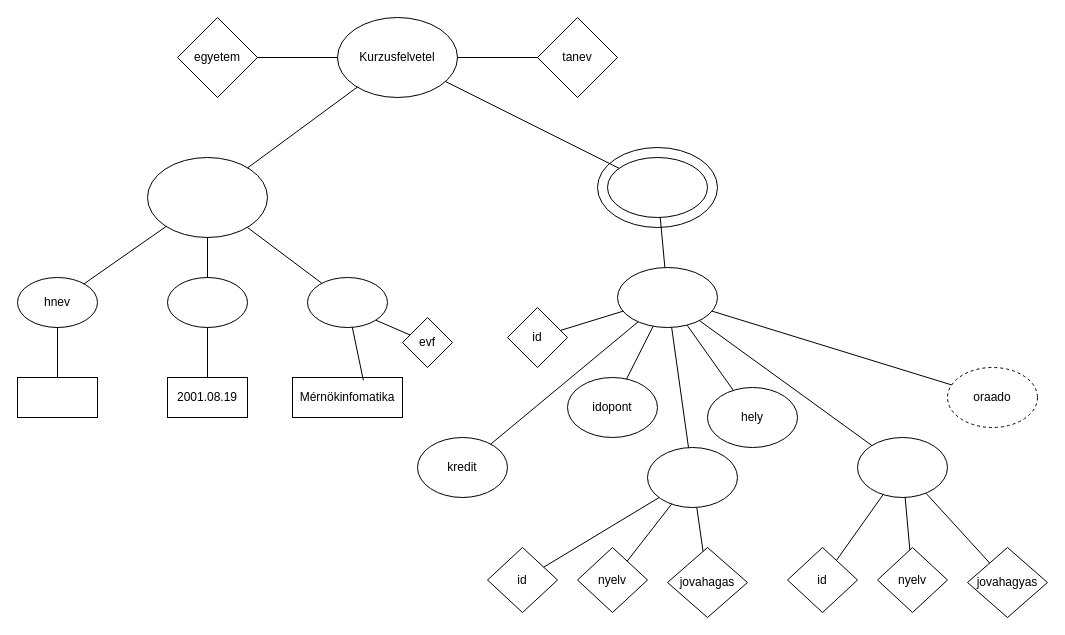
This 1065x635 diagram has some shape labels left out. The shapes that lost their labels are listed below. From the top down, each one's centre as x and y in pixels, then its label:
point 207,197: Hallgato
point 657,187: Kurzusok
point 207,302: szulev
point 347,302: szak
point 667,297: kurzus
point 57,397: Borbély Ádám
point 692,477: kurzusnev
point 902,467: oktato
